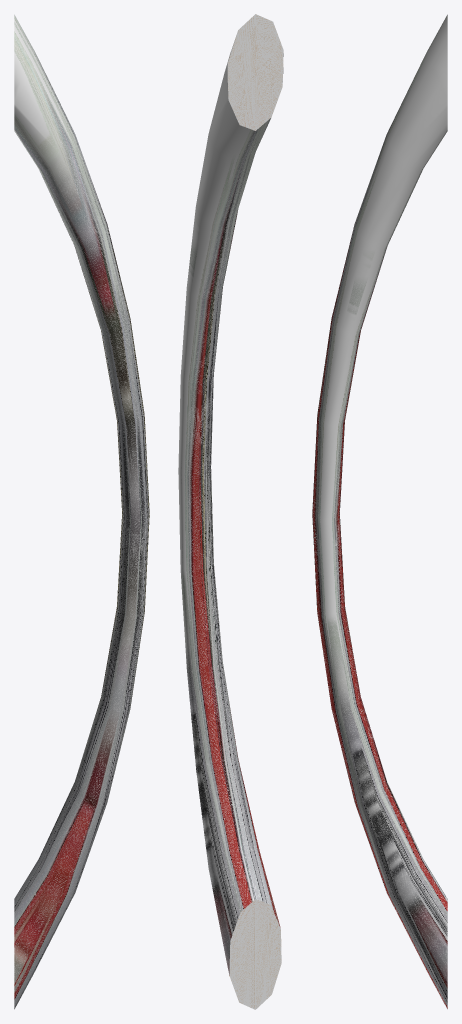
The model's file is original-49.obj.
3 renders of one model, left to right at view 1: azimuth 90°, elevation 25°; view 2: azimuth 210°, elevation 25°; view 3: azimuth 270°, elevation 25°, orthographic.
Parts seen in each view (by area): view 1: _3021_1_1/_3021_1/mesh39/mesh39-geometry#mesh39-geometry; view 2: _3021_1_1/_3021_1/mesh39/mesh39-geometry#mesh39-geometry; view 3: _3021_1_1/_3021_1/mesh39/mesh39-geometry#mesh39-geometry.
Part boxes in pixels (left/top/right/bottom): _3021_1_1/_3021_1/mesh39/mesh39-geometry#mesh39-geometry: left=14, top=14, right=149, bottom=1009; _3021_1_1/_3021_1/mesh39/mesh39-geometry#mesh39-geometry: left=178, top=14, right=283, bottom=1009; _3021_1_1/_3021_1/mesh39/mesh39-geometry#mesh39-geometry: left=312, top=14, right=447, bottom=1009.
Size of the model in its own units: 0.0246 by 0.4178 by 0.0515.
